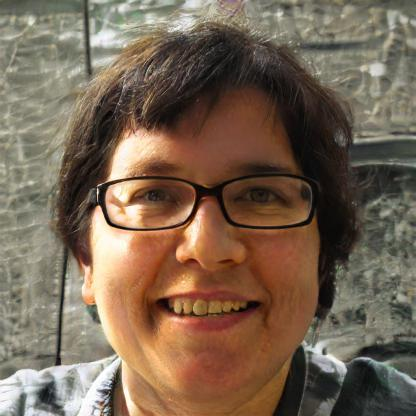glasses: (83, 168, 324, 235)
